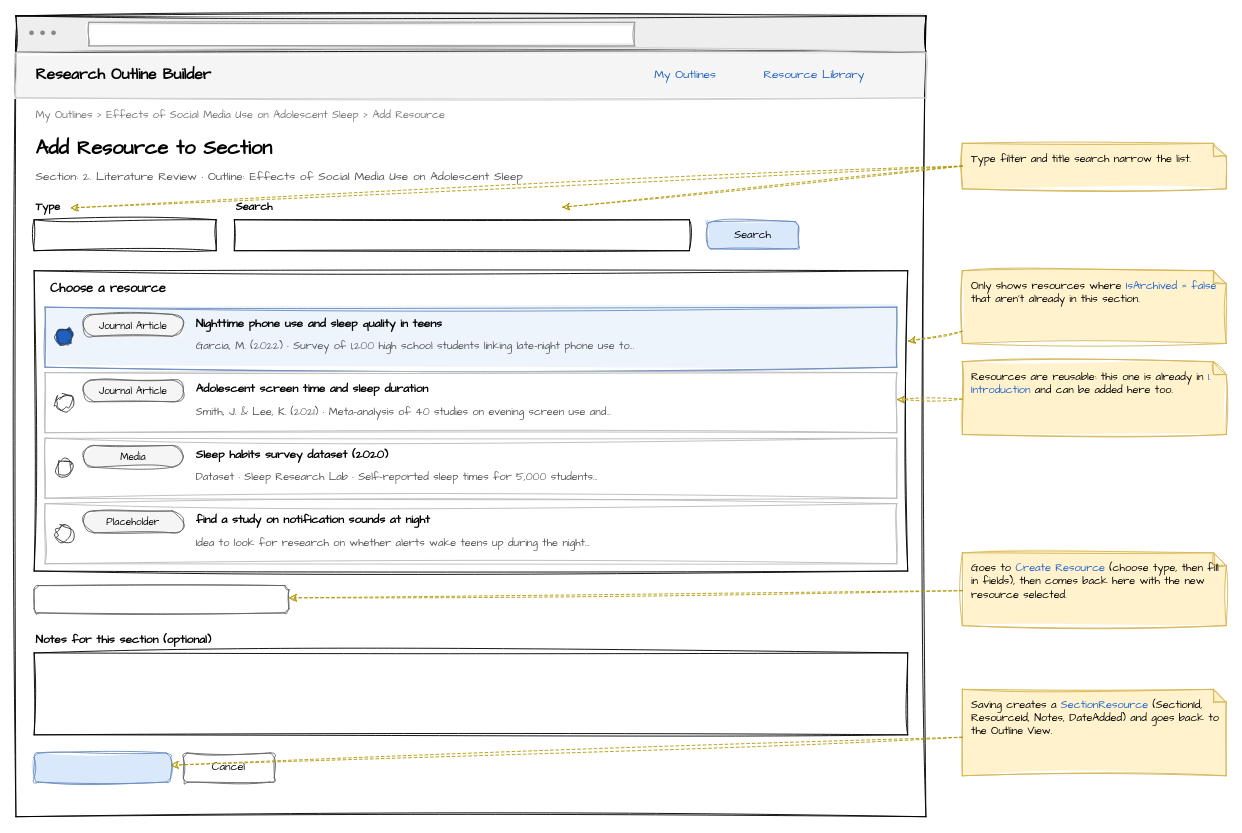
This 1242x833 diagram has some shape labels left out. Here are the shapes that lost their labels. From the top down, the box of each, then its label:
(88, 21, 635, 46): localhost:5001/sections/2/resources/add
(33, 219, 216, 251): All types ▾
(233, 219, 689, 251): Search by title...
(33, 585, 289, 613): Can't find it? + Create New Resource
(33, 652, 908, 735): e.g. Use the survey results to show how common late-night phone use is
(33, 752, 171, 782): Add to Section
